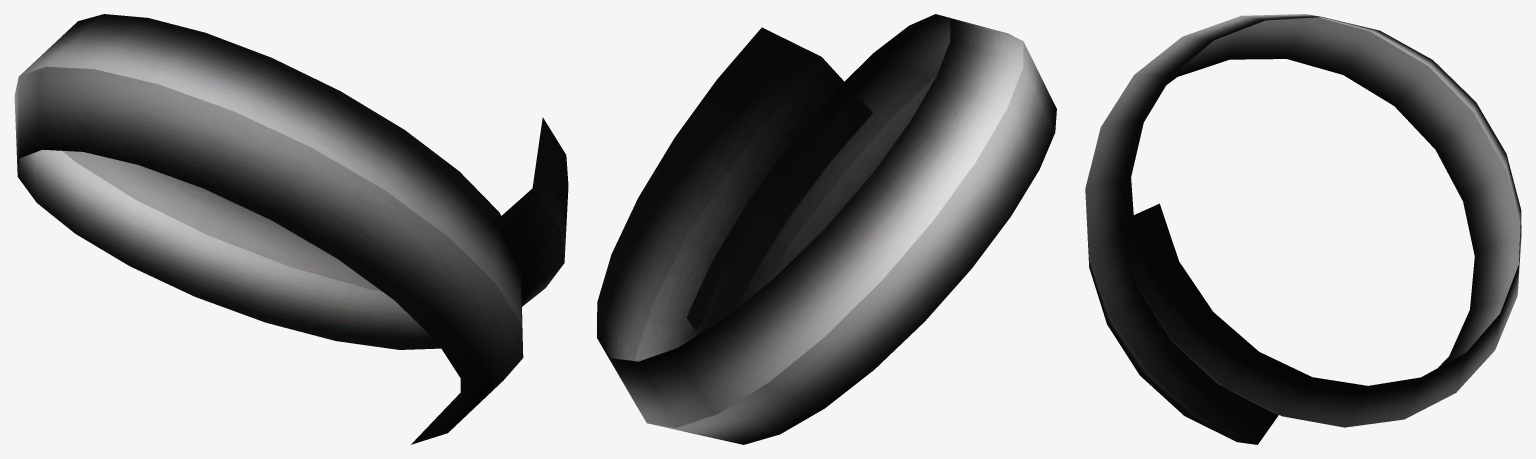
Rendered from vfx_kurp_0081.dae.
The picture shows the model from 3 angles, left to right: view 1: azimuth 30°, elevation 25°; view 2: azimuth 150°, elevation 25°; view 3: azimuth 270°, elevation 25°; orthographic projection. The views are drawn at different scales.
Visible parts, largest first — view 1: vfx_kurp_0081; view 2: vfx_kurp_0081; view 3: vfx_kurp_0081.
Boxes of the visible parts, box(x1,y1,x2,y2) form: vfx_kurp_0081: box(14, 14, 568, 444); vfx_kurp_0081: box(597, 14, 1056, 444); vfx_kurp_0081: box(1085, 14, 1521, 444).
Bounding box in the file's own units: 9.22 × 9.75 × 8.63.
Materials: 1 (1 with a texture image).
